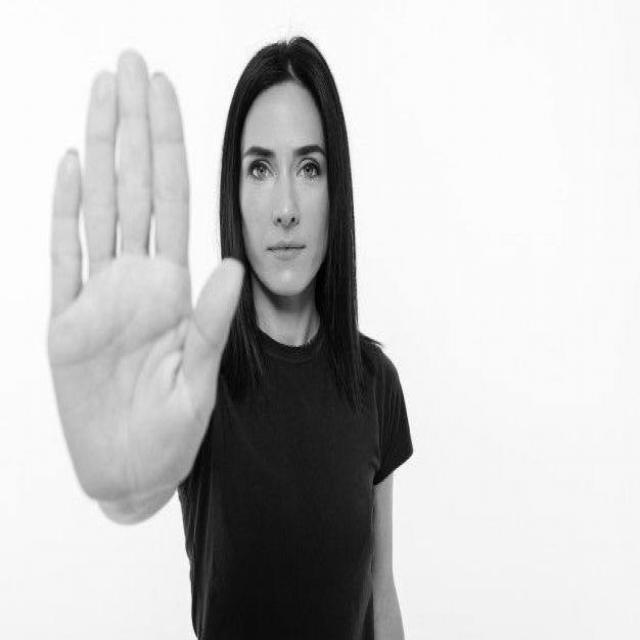stop: (43, 42, 248, 516)
